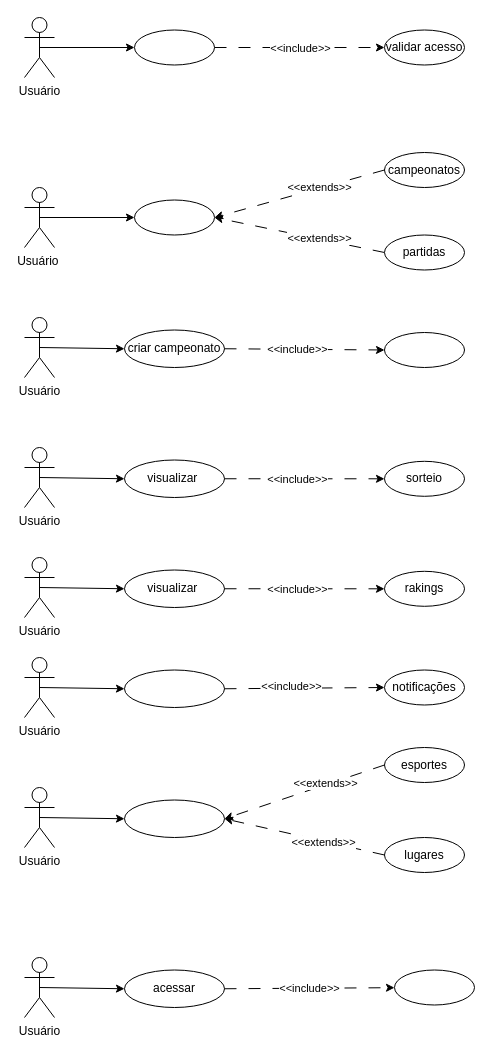
The diagram is 492 pixels wide and 1056 high, and some of its shapes have lost their labels. The shapes that lost their labels are listed below. From the top down, each one's centre as x and y in pixels, then its label:
At [174,47]: "realizar cadastro".
At [174,217]: "criar".
At [424,350]: "escolher local".
At [174,688]: "receber".
At [174,818]: "favoritar".
At [434,987]: "histórico".
